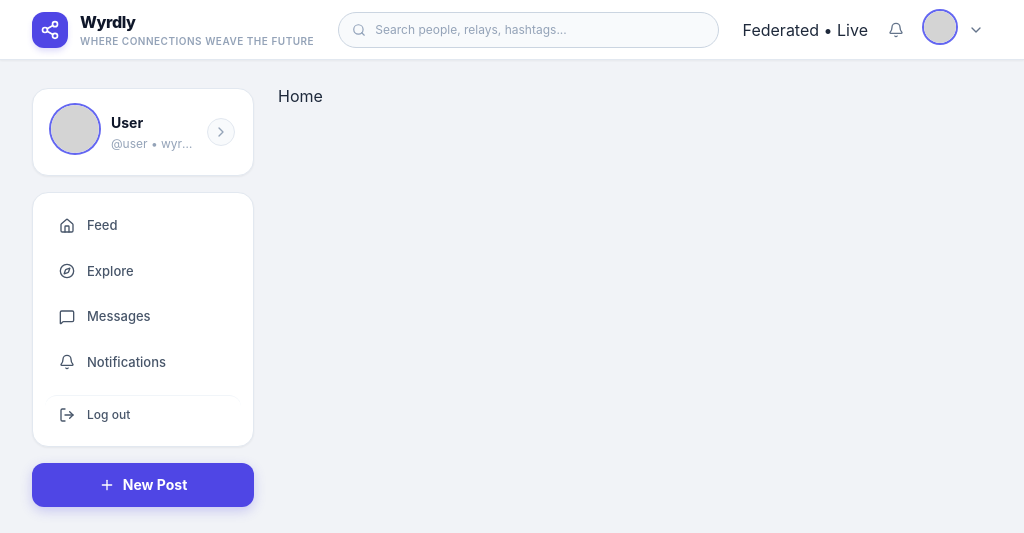
Test: MainLayout Component › navigates to explore with query on navbar search submission
The width and height of the screenshot is (1024, 533).
Type "alice" into the field with test id "navbar-search-input".
click(528, 30); type("alice")  # box [338,12,719,48]
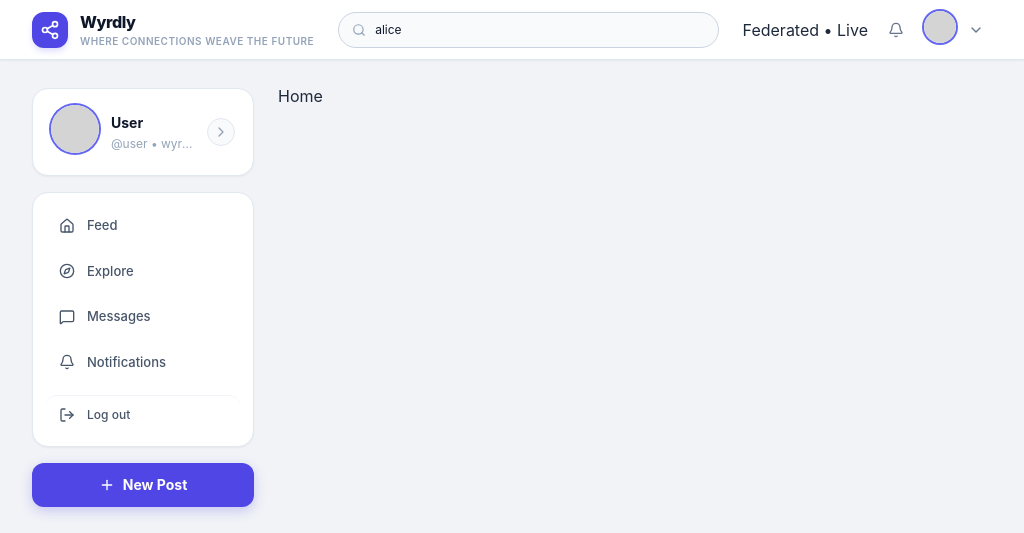
Submit the form with test id "navbar-search-input", box [338,12,719,48]
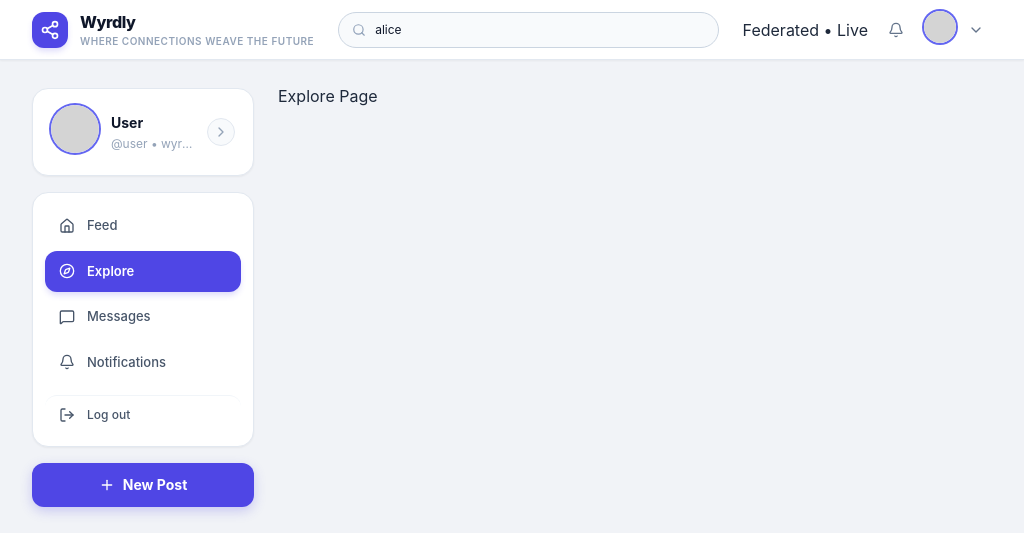
Expected: the text "Explore Page" is shown, [278,86,378,106]
